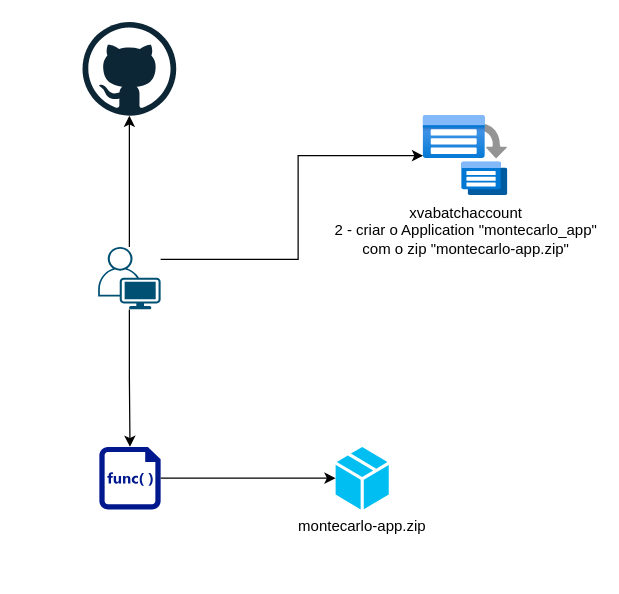
Image size: 619x594. Some labels were removed from this diagram. Each missing label, with the centre of its shape:
1 - executar o montecarlo_app_apppackage.py para gerar o zip: the point at 129,477
xva-azure-batch-poc: the point at 128,68
